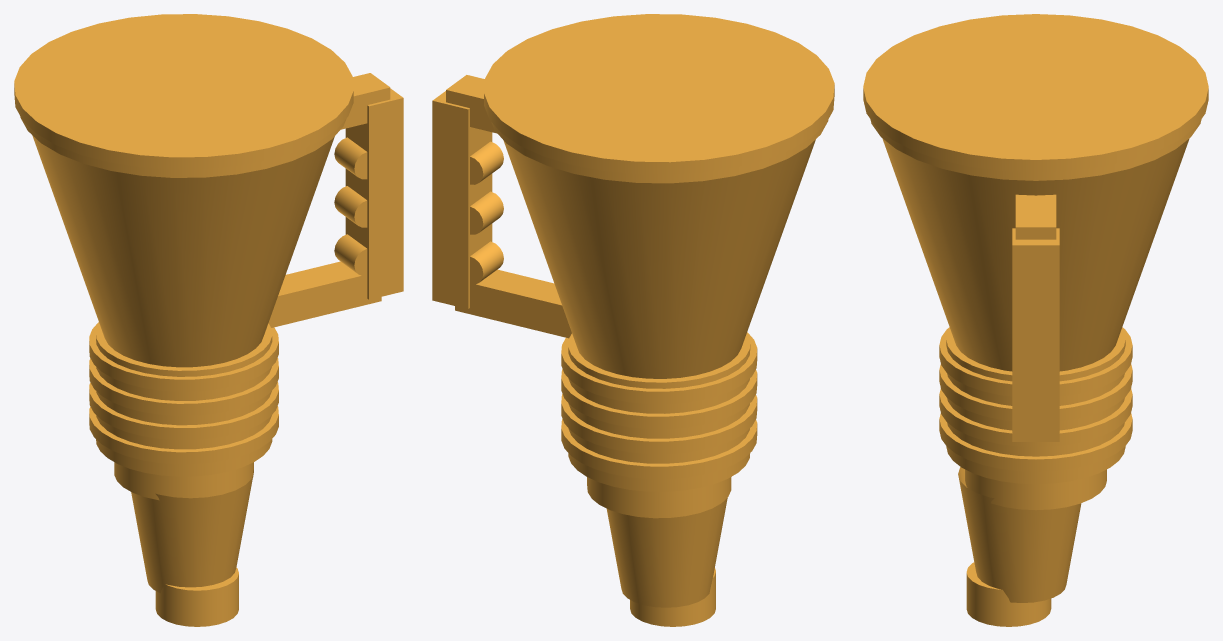
The model's file is embudo_automotriz.glb.
3 renders of one model, left to right at view 1: azimuth 30°, elevation 25°; view 2: azimuth 150°, elevation 25°; view 3: azimuth 270°, elevation 25°, orthographic. The views are drawn at different scales.
Parts seen in each view (by area): view 1: EmbudoAutomotrizAntiderrames; view 2: EmbudoAutomotrizAntiderrames; view 3: EmbudoAutomotrizAntiderrames.
Part boxes in pixels (bbox=[...]): EmbudoAutomotrizAntiderrames: bbox=[14, 14, 403, 626]; EmbudoAutomotrizAntiderrames: bbox=[432, 14, 834, 626]; EmbudoAutomotrizAntiderrames: bbox=[863, 14, 1208, 626].
Bounding box in the file's own units: 12.3 × 17 × 10.2.
